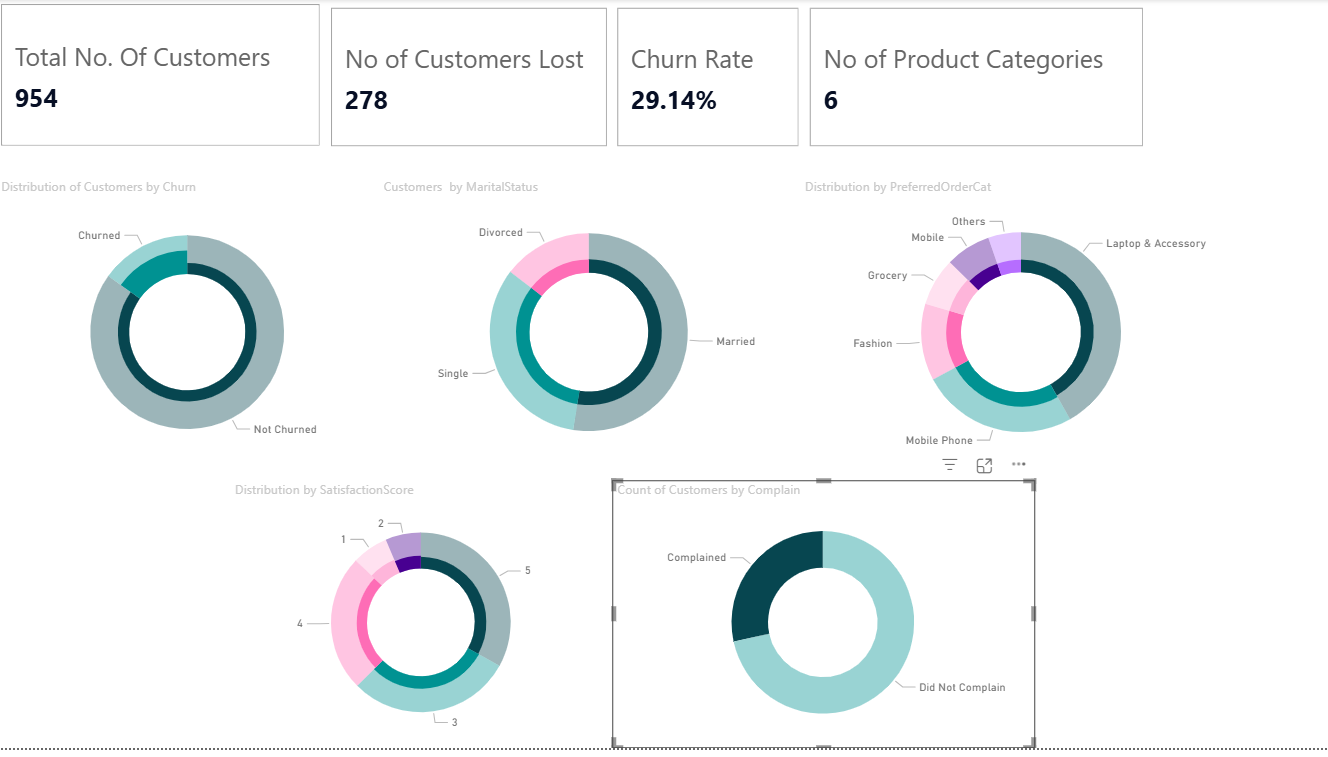

The dashboard page shown, as its layout file describes it:
{"tool":"powerbi","page":{"name":"Overview","canvas":[1280,720],"ordinal":0},"visuals":[{"type":"cardVisual","fields":{"Data":["data_ecommerce_customer_churn.customercount"]},"box":[0,0,316.7,146.7],"z":0},{"type":"donutChart","fields":{"Category":["data_ecommerce_customer_churn.Churn"],"Y":["CountNonNull(data_ecommerce_customer_churn.Churn)"]},"box":[0,171.1,367.8,281.1],"z":1000},{"type":"cardVisual","fields":{"Data":["data_ecommerce_customer_churn.No of Customers Lost"]},"box":[316.7,3.3,275.6,143.3],"z":2000},{"type":"cardVisual","fields":{"Data":["data_ecommerce_customer_churn.Churn Rate"]},"box":[592.2,3.3,184.4,143.3],"z":3000},{"type":"donutChart","fields":{"Category":["data_ecommerce_customer_churn.MaritalStatus"],"Y":["CountNonNull(data_ecommerce_customer_churn.MaritalStatus)"]},"box":[367.8,171.1,404.4,281.1],"z":4000},{"type":"donutChart","fields":{"Category":["data_ecommerce_customer_churn.PreferredOrderCat"],"Y":["CountNonNull(data_ecommerce_customer_churn.PreferredOrderCat)"]},"box":[772.2,171.1,425.6,281.1],"z":5000},{"type":"cardVisual","fields":{"Data":["data_ecommerce_customer_churn.No of Product Categories"]},"box":[776.7,3.3,330,143.3],"z":6000},{"type":"donutChart","fields":{"Y":["Sum(data_ecommerce_customer_churn.SatisfactionScore)"],"Category":["data_ecommerce_customer_churn.SatisfactionScore"]},"box":[225,462.5,367.5,257.5],"z":7000},{"type":"donutChart","fields":{"Category":["data_ecommerce_customer_churn.Complain"],"Y":["CountNonNull(data_ecommerce_customer_churn.Complain)"]},"box":[592.5,462.5,405,257.5],"z":8000}]}

Visuals, with their boxes in screenshot pixels (x1, y1, x2, y2), scaled from the page's 1280x720 canvas onto the 1328x757 screenshot:
cardVisual - data_ecommerce_customer_churn.customercount: 0, 0, 329, 154
donutChart - data_ecommerce_customer_churn.Churn x CountNonNull(data_ecommerce_customer_churn.Churn): 0, 180, 382, 475
cardVisual - data_ecommerce_customer_churn.No of Customers Lost: 329, 3, 615, 154
cardVisual - data_ecommerce_customer_churn.Churn Rate: 614, 3, 806, 154
donutChart - data_ecommerce_customer_churn.MaritalStatus x CountNonNull(data_ecommerce_customer_churn.MaritalStatus): 382, 180, 801, 475
donutChart - data_ecommerce_customer_churn.PreferredOrderCat x CountNonNull(data_ecommerce_customer_churn.PreferredOrderCat): 801, 180, 1243, 475
cardVisual - data_ecommerce_customer_churn.No of Product Categories: 806, 3, 1148, 154
donutChart - Sum(data_ecommerce_customer_churn.SatisfactionScore) x data_ecommerce_customer_churn.SatisfactionScore: 233, 486, 615, 756
donutChart - data_ecommerce_customer_churn.Complain x CountNonNull(data_ecommerce_customer_churn.Complain): 615, 486, 1035, 756
